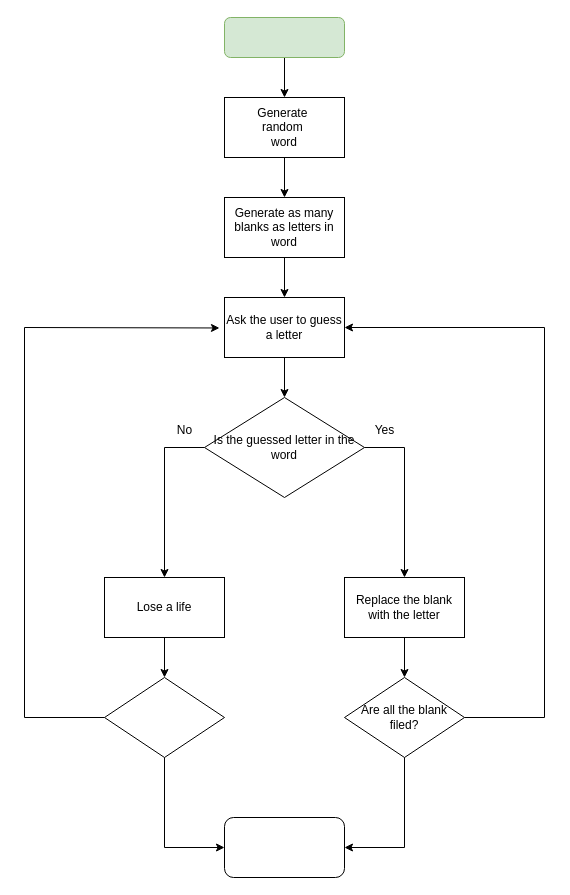
This 570x895 diagram has some shape labels left out. The centre of each missing label's shape, as x and y in pixels:
GAME OVER: the point at 284,847
Have they run of lives?: the point at 164,717
Start: the point at 284,37
